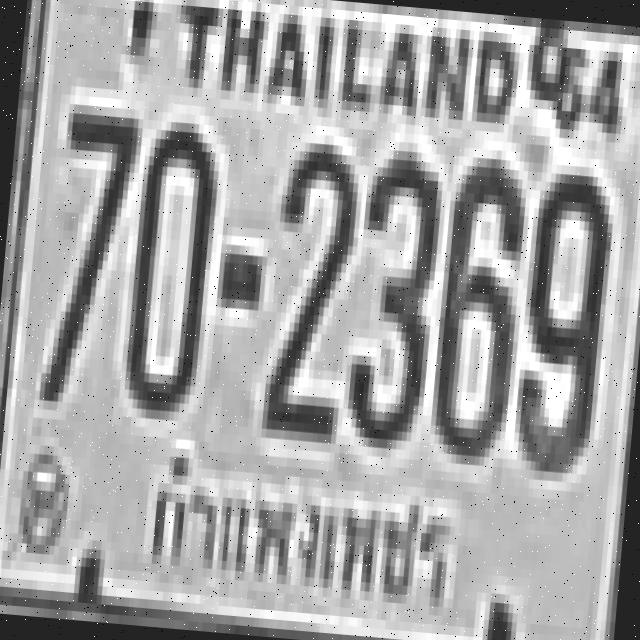0: (118, 110, 218, 413)
2: (261, 132, 357, 434)
3: (340, 138, 440, 442)
6: (428, 146, 524, 458)
7: (36, 94, 138, 406)
9: (512, 162, 612, 466)
KamphaengPhet: (140, 437, 467, 636)
